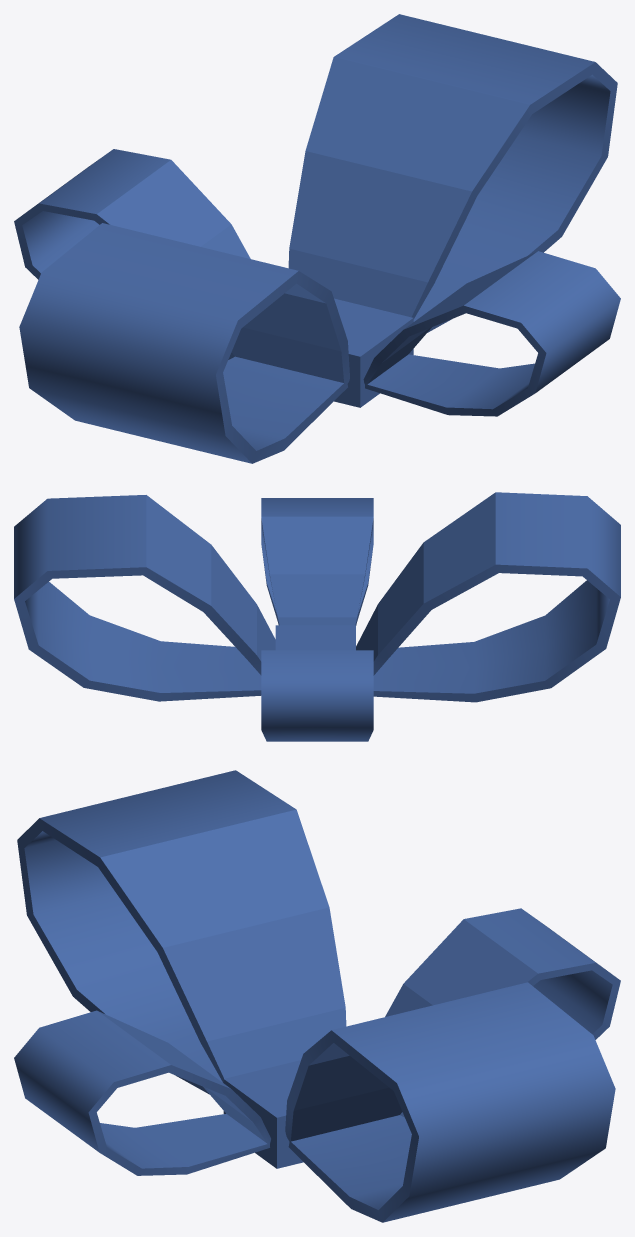
Rendered from M_Bow_03.FBX.
The picture shows the model from 3 angles, top to bottom: view 1: azimuth 30°, elevation 25°; view 2: azimuth 150°, elevation 25°; view 3: azimuth 270°, elevation 25°; orthographic projection. The views are drawn at different scales.
Parts seen in each view (by area): view 1: Box013; view 2: Box013; view 3: Box013.
Boxes of the visible parts, x1,y1,x2,y2 form: Box013: (14, 14, 620, 463); Box013: (14, 492, 620, 741); Box013: (14, 770, 620, 1222).
Size of the model in its own units: 37.79 by 10.94 by 28.33.
